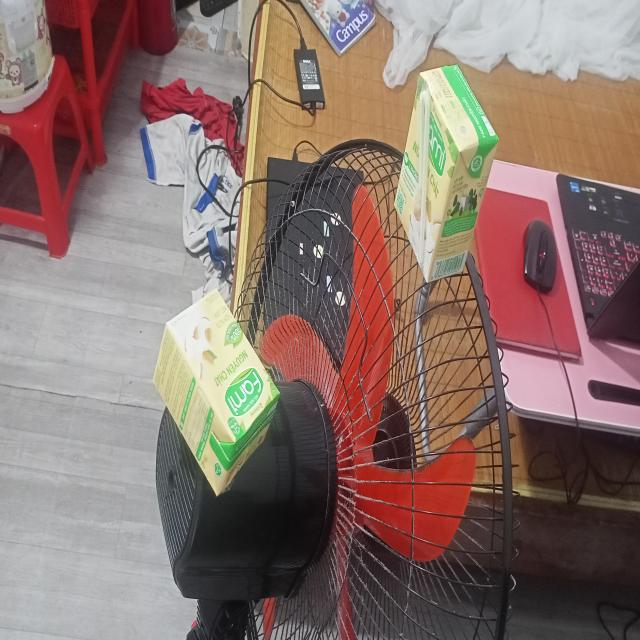Fami: (153, 283, 282, 500), (394, 65, 499, 284)
